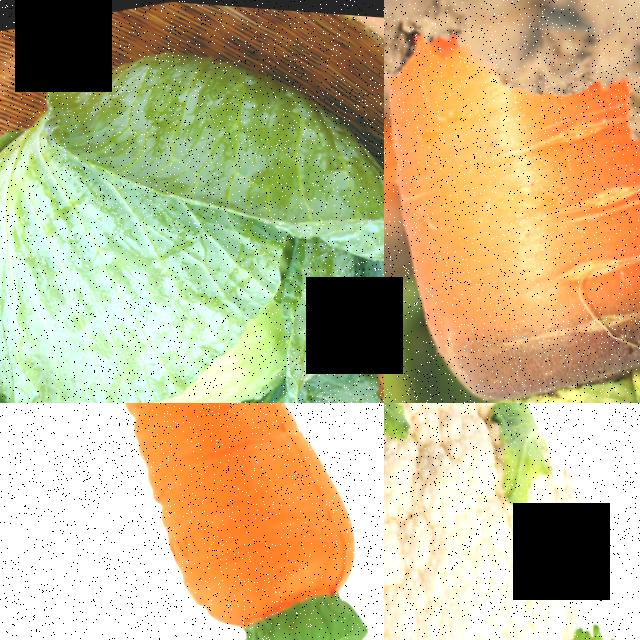cabbage: (0, 0, 384, 403)
carrot: (384, 19, 640, 403), (0, 403, 384, 640)
cauliflower: (384, 403, 640, 640)
